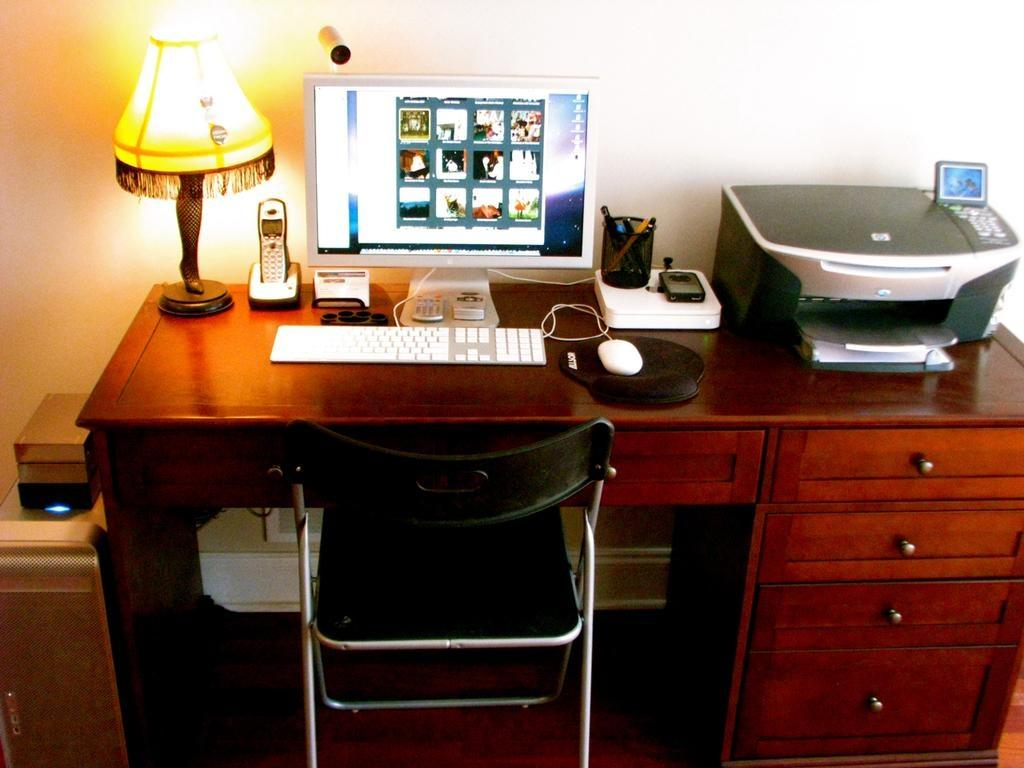AIO PC-Monitor-TV: (301, 72, 601, 327)
Filing Cabinet: (724, 422, 1023, 767)
Meja: (77, 278, 1023, 504)
Printer: (709, 182, 1021, 372)
